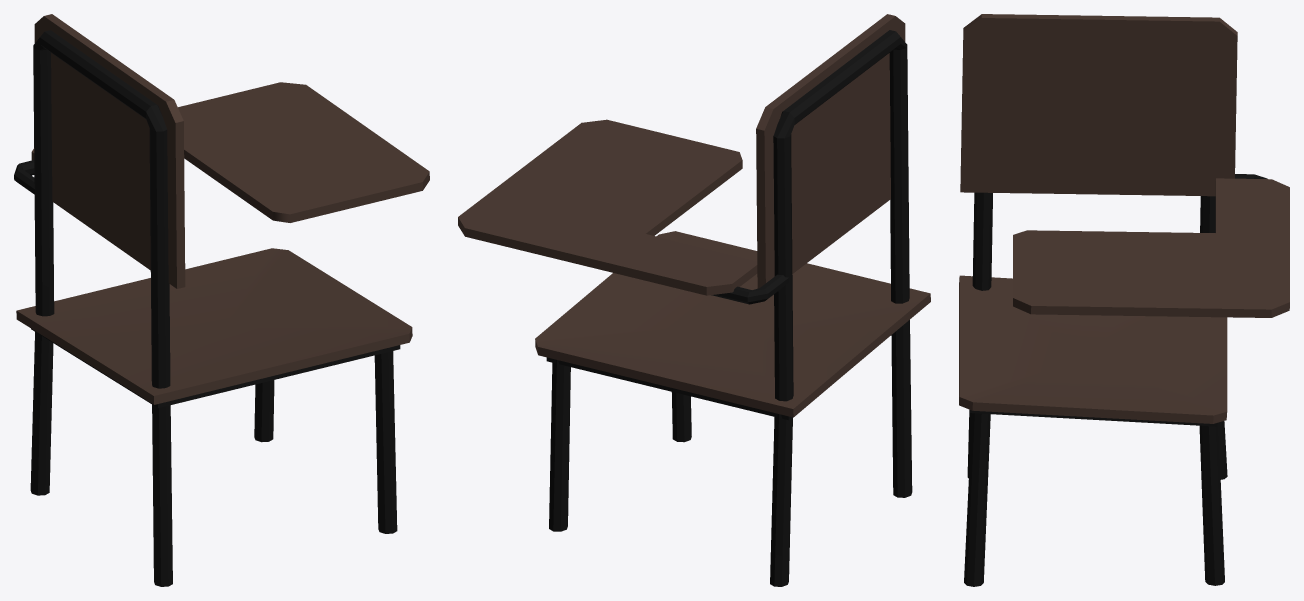
Rendered from Elements_Chair-2.fbx.
The picture shows the model from 3 angles, left to right: view 1: azimuth 30°, elevation 25°; view 2: azimuth 150°, elevation 25°; view 3: azimuth 270°, elevation 25°; orthographic projection. The views are drawn at different scales.
Parts seen in each view (by area): view 1: Seat, Table, BackSeat, BackLegs, FrontLeg_2, Leg_Support, FronLeg_1; view 2: Seat, Table, BackSeat, BackLegs, FronLeg_1, Leg_Support, Arm_Support, FrontLeg_2; view 3: BackSeat, Seat, Table, FrontLeg_2, FronLeg_1, BackLegs, Leg_Support.
Boxes of the visible parts, x1,y1,x2,y2 form: Seat: (16, 248, 412, 404); Table: (31, 82, 429, 222); BackSeat: (34, 14, 185, 288); BackLegs: (30, 30, 172, 586); FrontLeg_2: (374, 351, 397, 533); Leg_Support: (31, 328, 400, 408); FronLeg_1: (254, 380, 274, 442); Seat: (535, 231, 930, 417); Table: (458, 119, 757, 295); BackSeat: (756, 14, 905, 288); BackLegs: (770, 30, 912, 586); FronLeg_1: (549, 360, 570, 531); Leg_Support: (546, 357, 791, 420); Arm_Support: (711, 274, 788, 304); FrontLeg_2: (671, 392, 691, 442); BackSeat: (960, 14, 1237, 196); Seat: (959, 275, 1227, 423); Table: (1013, 178, 1289, 317); FrontLeg_2: (964, 413, 990, 586); FronLeg_1: (1199, 423, 1224, 585); BackLegs: (967, 192, 1227, 479); Leg_Support: (970, 410, 1217, 426).
Bounding box in the file's own units: 37.47 × 54.82 × 35.28.
Materials: 3 (3 with a texture image).
